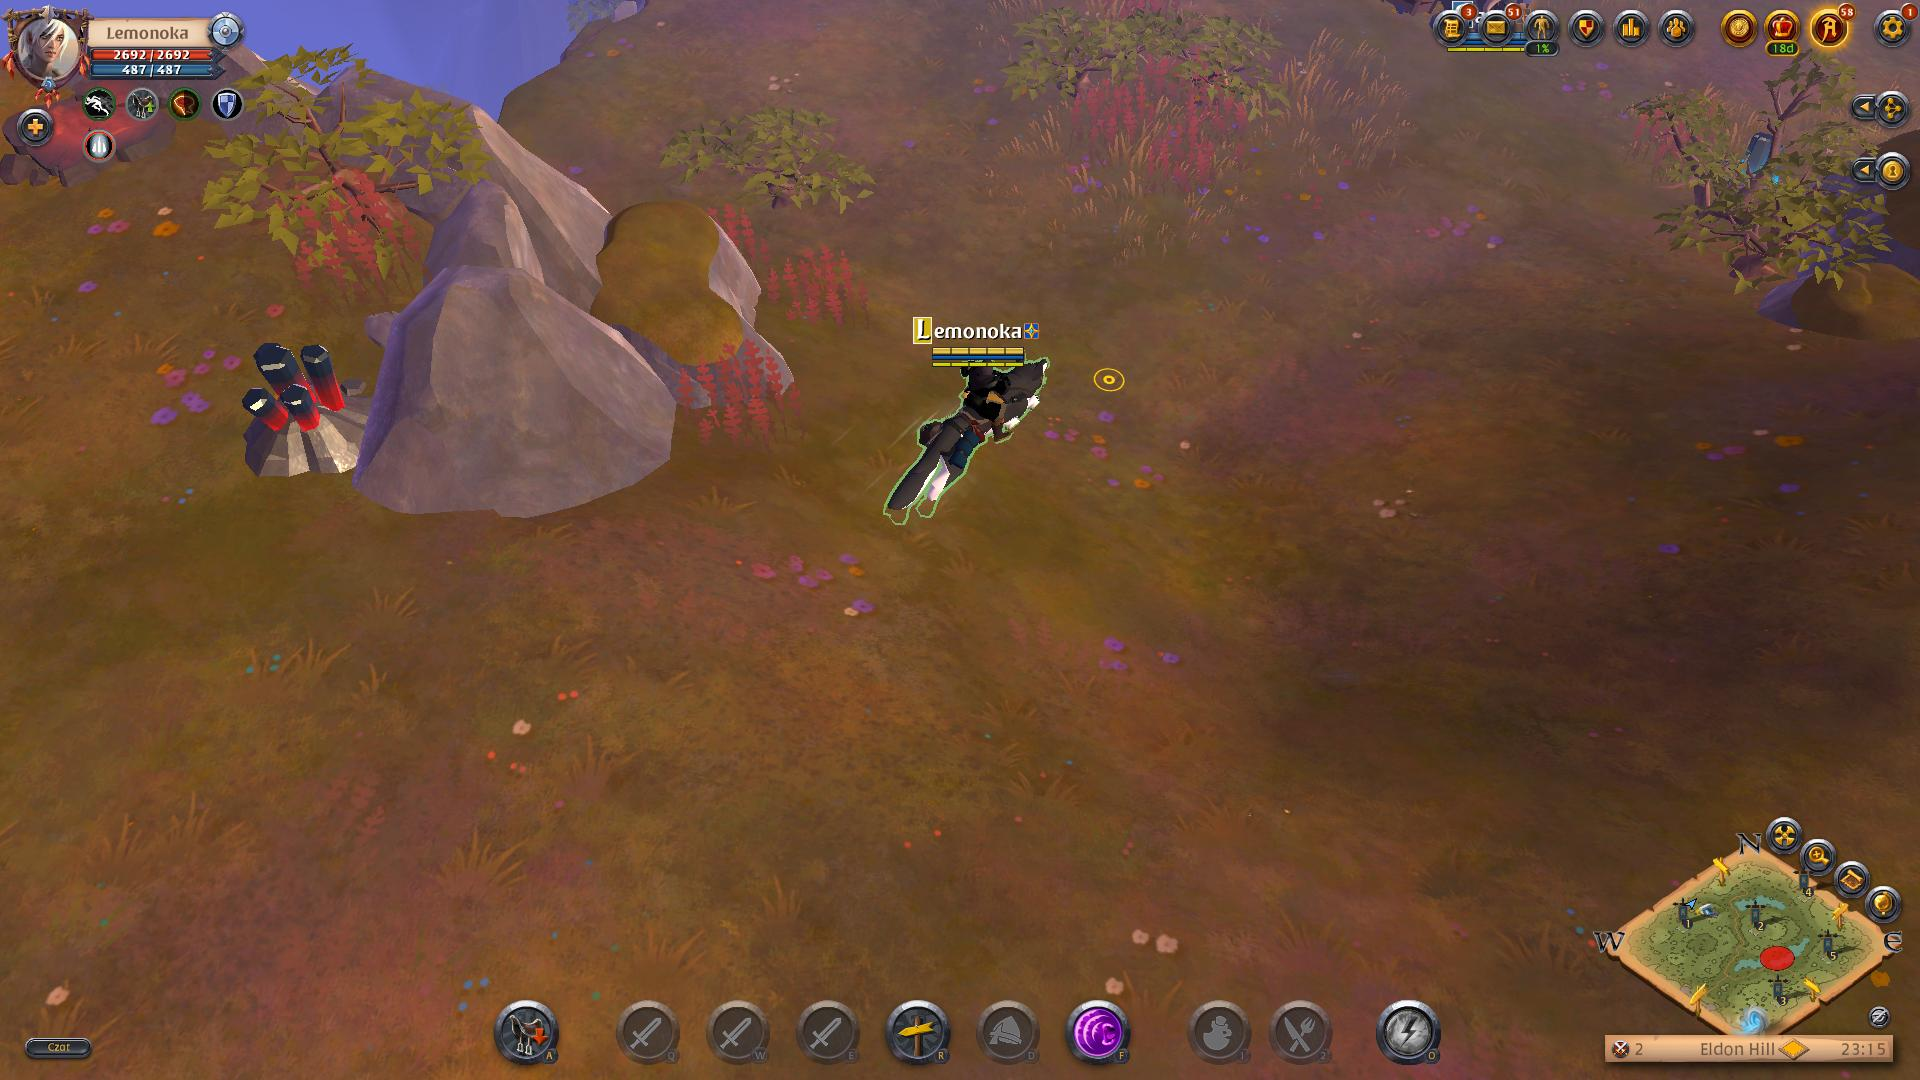ore tier 5: (235, 336, 377, 475)
